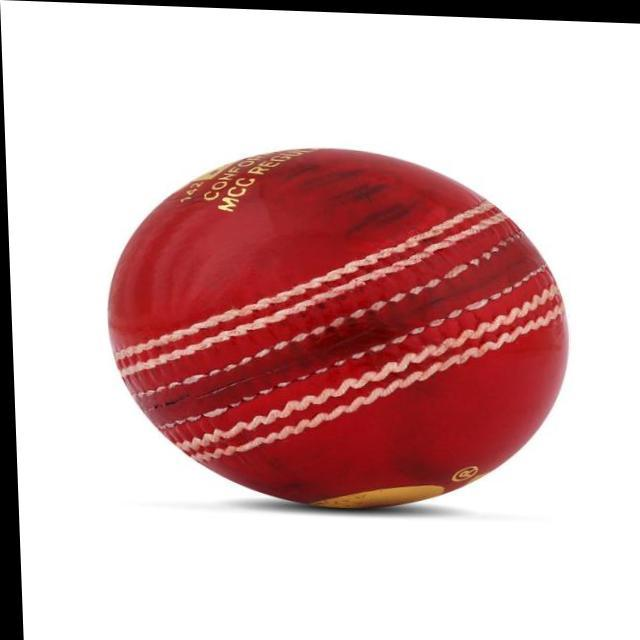cricket ball: (105, 145, 567, 506)
